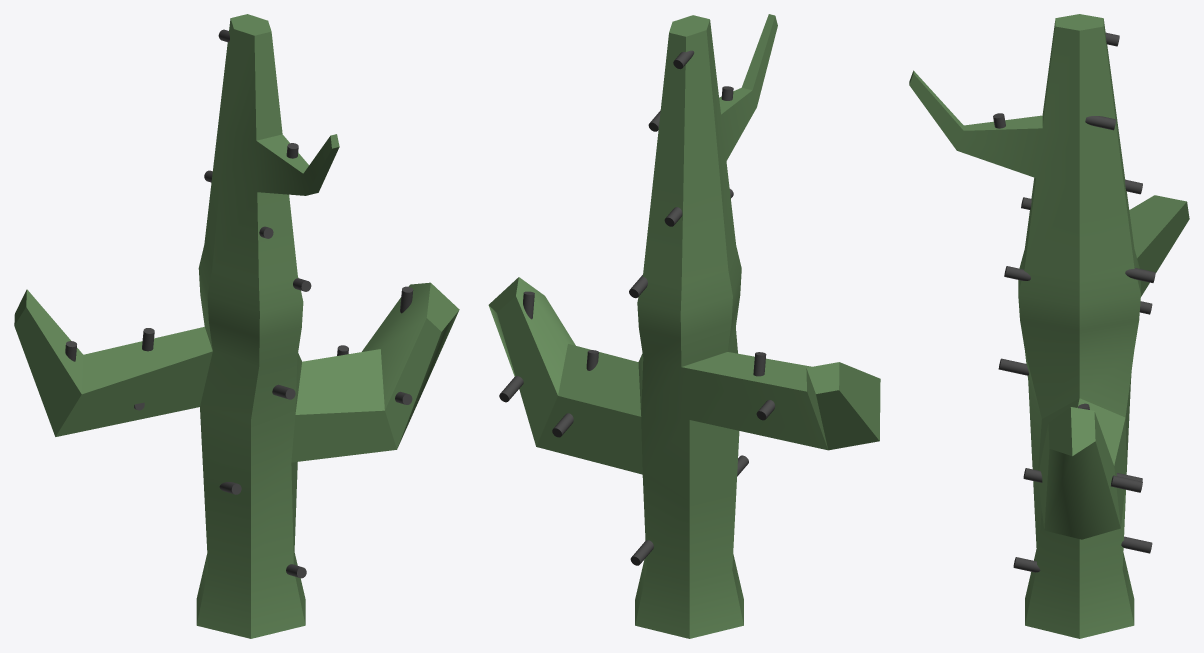
3 renders of one model, left to right at view 1: azimuth 30°, elevation 25°; view 2: azimuth 150°, elevation 25°; view 3: azimuth 270°, elevation 25°, orthographic.
Visible parts, largest first — view 1: pCylinder51; view 2: pCylinder51; view 3: pCylinder51.
Part boxes in pixels (x1=…): pCylinder51: x1=14, y1=14, x2=459, y2=638; pCylinder51: x1=488, y1=14, x2=880, y2=638; pCylinder51: x1=909, y1=14, x2=1189, y2=638.
Size of the model in its own units: 4.91 by 6.92 by 2.98.
